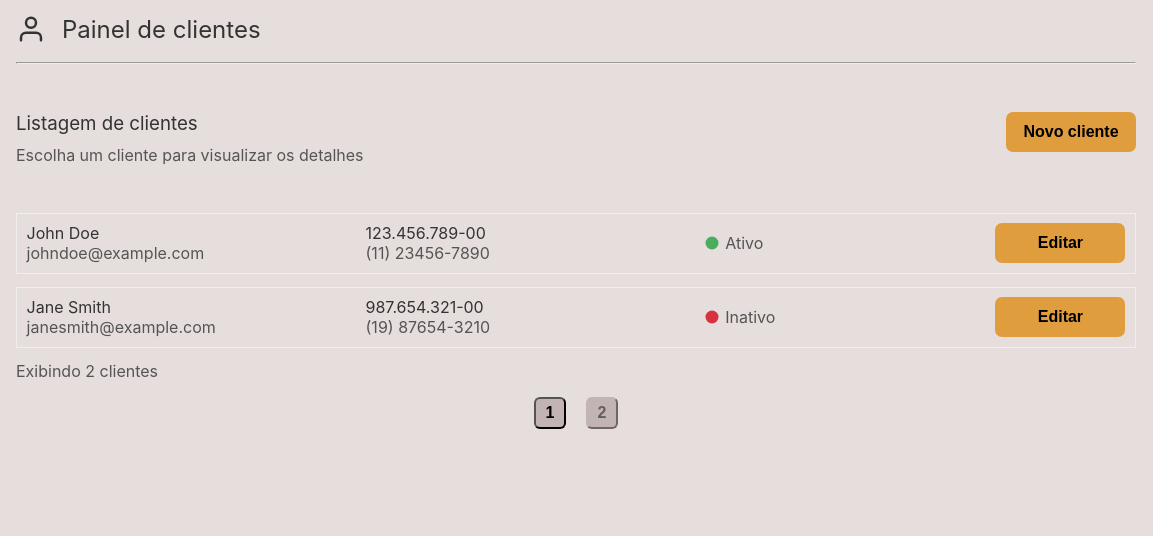
Test case: Home › navigates to update page when "Editar" button is clicked
This screenshot has width=1153, height=536.
Step 1. Click the button with test id "edit-button-1" → coordinates (1060, 243), box [995,223,1125,263]
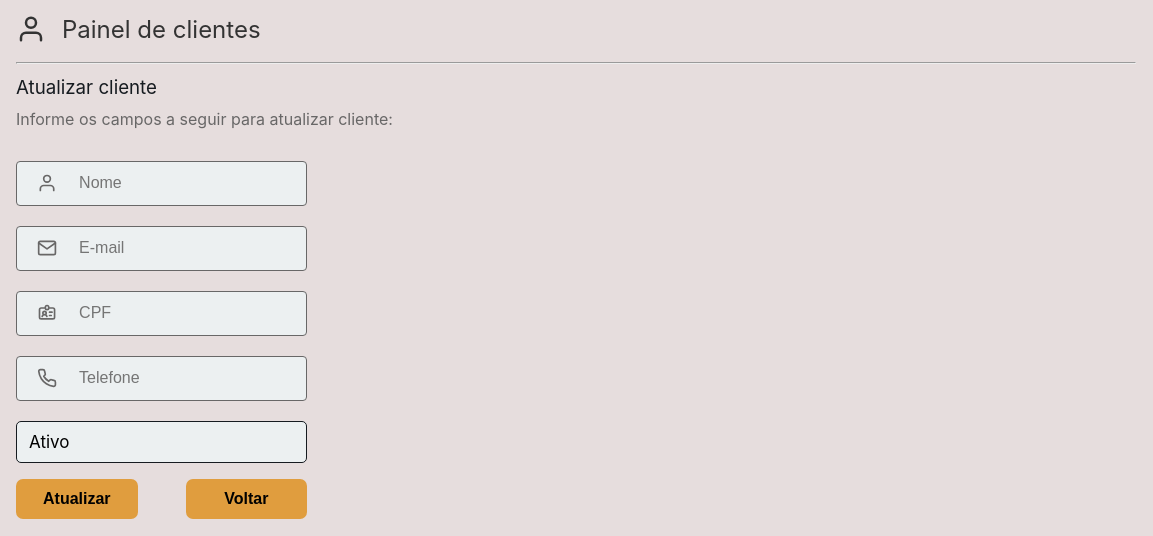
Check: the heading "Atualizar cliente" is shown, box [16,76,157,99]
